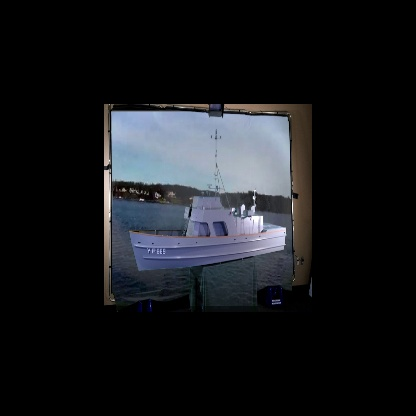YP689: (128, 128, 287, 273)
